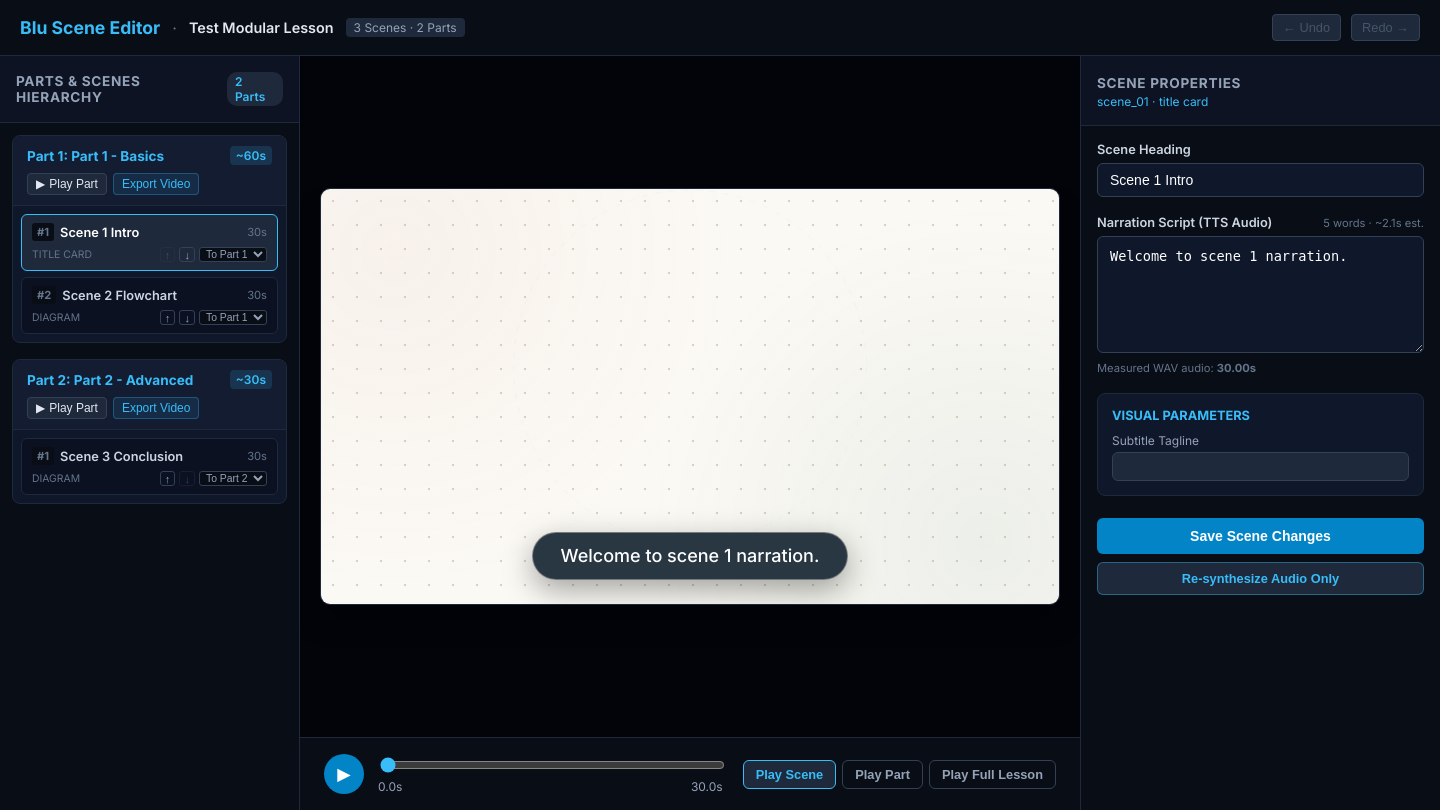
Test case: Modular Scene Editor Component › updates narration and shows unsaved modifications indicator
Replace the text in the text box with placeholder "Spoken narration script..." with "Updated custom narration for scene 1.": (1260, 295) [1097,236,1424,353]
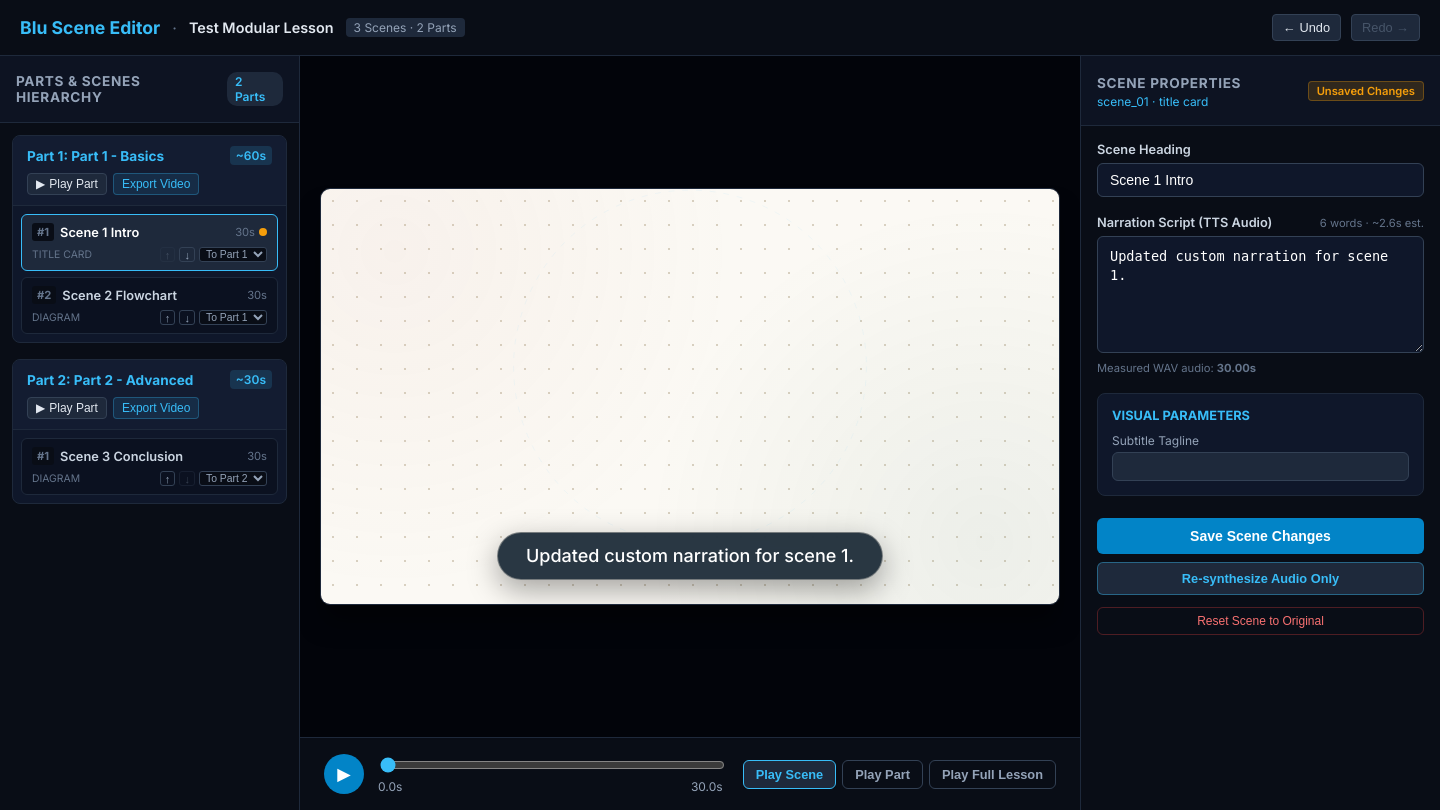
Expected: the text "Unsaved Changes" is shown, [1308,80,1424,100]
